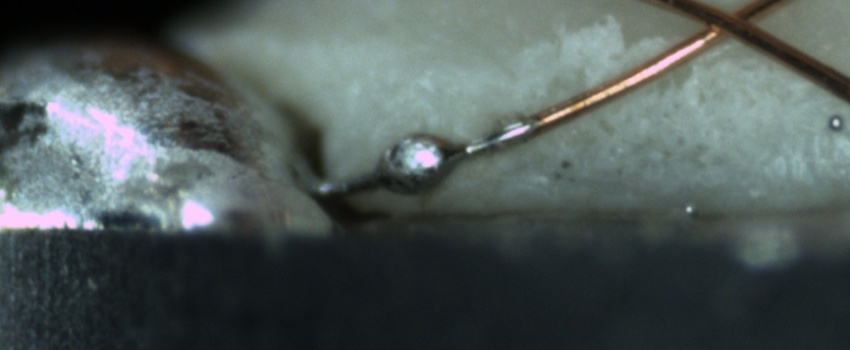CL: (677, 0, 771, 49)
TB: (378, 130, 458, 193)
TS: (316, 118, 535, 198)
TTCW: (307, 93, 592, 203)
